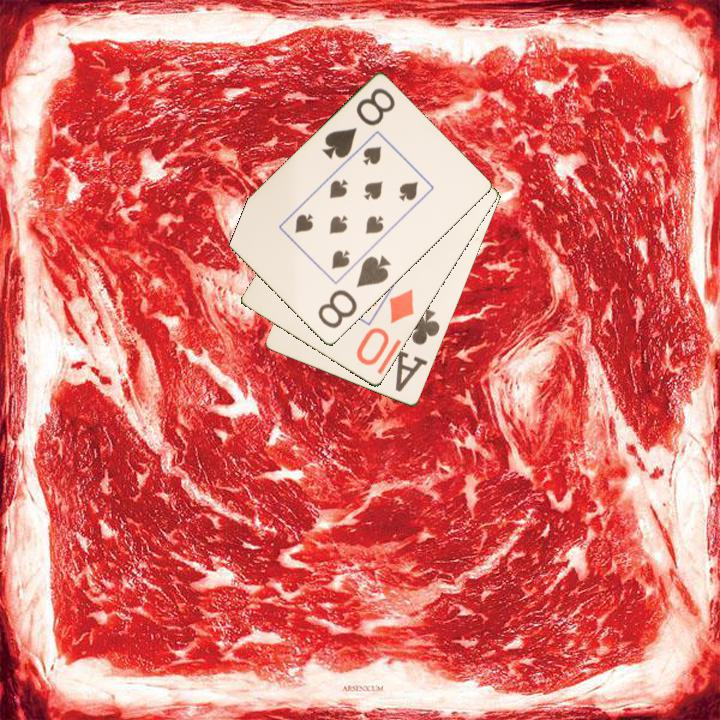10d: (352, 286, 418, 369)
8s: (314, 252, 394, 332), (318, 85, 398, 162)
Ac: (391, 305, 443, 395)
